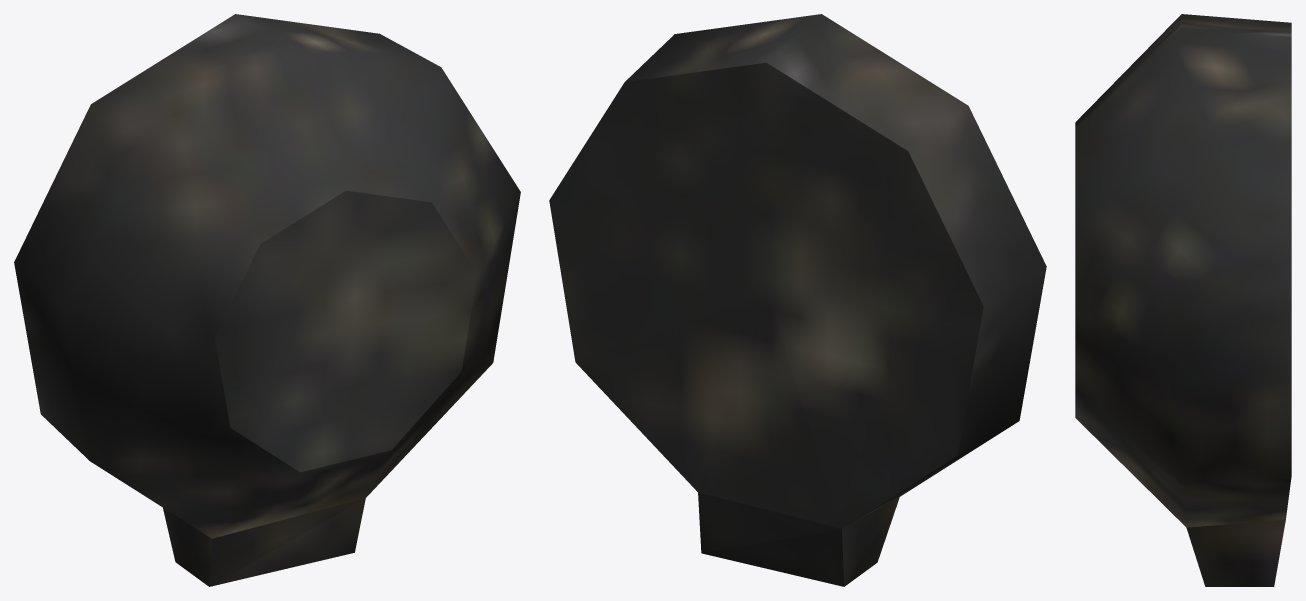
File: Plug_03.FBX
3 renders of one model, left to right at view 1: azimuth 30°, elevation 25°; view 2: azimuth 150°, elevation 25°; view 3: azimuth 270°, elevation 25°, orthographic. The views are drawn at different scales.
Parts seen in each view (by area): view 1: Plug_03; view 2: Plug_03; view 3: Plug_03.
Part boxes in pixels (left/top/right/bottom): Plug_03: left=14, top=14, right=520, bottom=586; Plug_03: left=549, top=14, right=1046, bottom=586; Plug_03: left=1075, top=14, right=1291, bottom=586.
Bounding box in the file's own units: 6.56 × 7.29 × 2.74.
